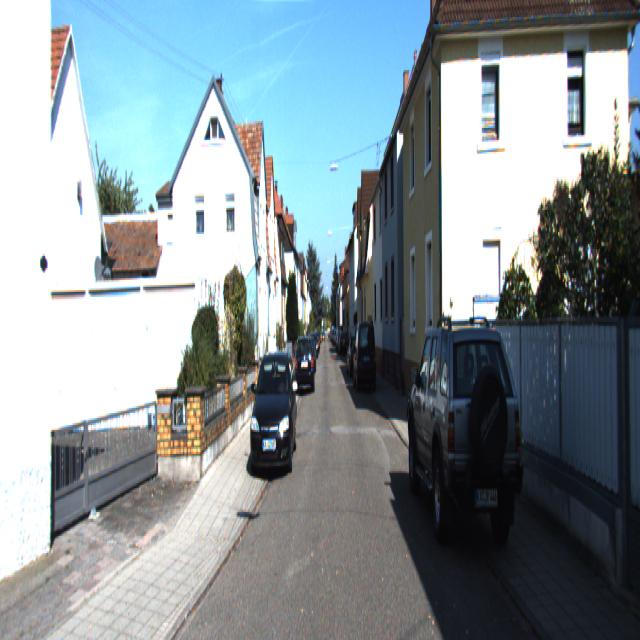Car: (404, 316, 526, 574), (248, 344, 297, 483), (353, 318, 378, 392), (294, 332, 314, 397)
DontCare: (329, 316, 351, 358), (307, 320, 328, 357)
